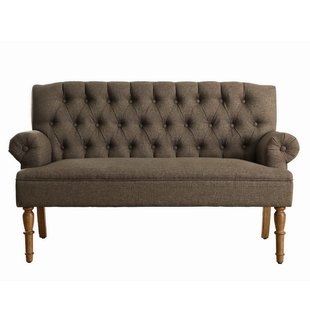chairs: (8, 81, 300, 265)
